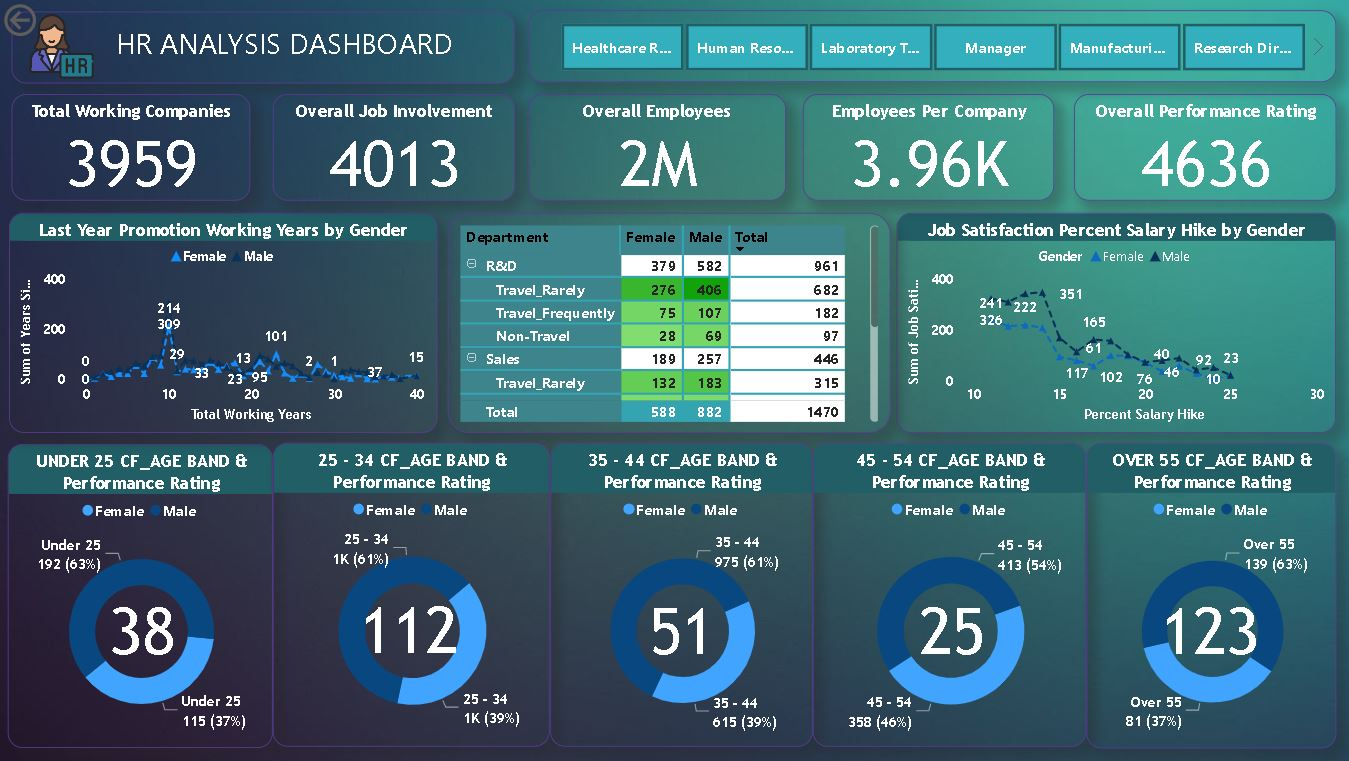

Layout of this report page (visuals, bound fields, positions):
{"tool":"powerbi","page":{"name":"Page 2","canvas":[1280,720],"ordinal":1},"visuals":[{"type":"donutChart","title":"UNDER 25 CF_AGE BAND & Performance Rating","fields":{"Category":["HR data.Gender"],"Y":["Sum(HR data.Performance Rating)"],"Series":["HR data.CF_age band"]},"box":[8.5,420.3,250.7,287.1],"z":0},{"type":"textbox","box":[12,12,475.4,67.7],"z":1000},{"type":"image","box":[12,9,94.8,70.7],"z":2000},{"type":"slicer","title":"Job Title","fields":{"Values":["HR data.Job Role"]},"box":[499.5,10.5,764.3,67.7],"z":3000},{"type":"lineChart","title":"Last Year Promotion Working Years by Gender","fields":{"Series":["HR data.Gender"],"Y":["Sum(HR data.Years Since Last Promotion)"],"Category":["HR data.Total Working Years"]},"box":[9,201.6,404.7,207.6],"z":4000},{"type":"lineChart","title":"Job Satisfaction Percent Salary Hike by Gender","fields":{"Series":["HR data.Gender"],"Category":["HR data.Percent Salary Hike"],"Y":["Sum(HR data.Job Satisfaction)"]},"box":[848.5,201.6,415.2,207.6],"z":5000},{"type":"card","title":"Total Working Companies","fields":{"Values":["Sum(HR data.Num Companies Worked)"]},"box":[12,90.3,225.7,100.8],"z":6000},{"type":"card","title":"Overall Job Involvement","fields":{"Values":["Sum(HR data.Job Involvement)"]},"box":[258.8,90.3,228.7,100.8],"z":7000},{"type":"card","title":"Overall Employees","fields":{"Values":["Sum(HR data.Employee Number)"]},"box":[499.5,90.3,243.7,100.8],"z":8000},{"type":"card","title":"Employees Per Company","fields":{"Values":["Sum(HR data.% Wise Employees Per Company)"]},"box":[759.8,90.3,237.7,100.8],"z":9000},{"type":"card","title":"Overall Performance Rating","fields":{"Values":["Sum(HR data.Performance Rating)"]},"box":[1015.5,90.3,248.2,100.8],"z":10000},{"type":"pivotTable","fields":{"Values":["Sum(HR data.Employee Count)"],"Columns":["HR data.Gender"],"Rows":["HR data.Department","HR data.Business Travel"]},"box":[424.3,201.6,418.2,207.6],"z":12000},{"type":"donutChart","title":"25 - 34 CF_AGE BAND & Performance Rating","fields":{"Category":["HR data.Gender"],"Y":["Sum(HR data.Performance Rating)"],"Series":["HR data.CF_age band"]},"box":[258.8,419.7,261.8,287.4],"z":12500},{"type":"donutChart","title":"35 - 44 CF_AGE BAND & Performance Rating","fields":{"Category":["HR data.Gender"],"Y":["Sum(HR data.Performance Rating)"],"Series":["HR data.CF_age band"]},"box":[520.5,419.7,248.2,287.4],"z":13000},{"type":"donutChart","title":"45 - 54 CF_AGE BAND & Performance Rating","fields":{"Category":["HR data.Gender"],"Y":["Sum(HR data.Performance Rating)"],"Series":["HR data.CF_age band"]},"box":[768.8,419.7,258.8,287.4],"z":14000},{"type":"donutChart","title":"OVER 55 CF_AGE BAND & Performance Rating","fields":{"Category":["HR data.Gender"],"Y":["Sum(HR data.Performance Rating)"],"Series":["HR data.CF_age band"]},"box":[1027.7,419.6,236.2,289],"z":15000},{"type":"card","title":"Attrition","fields":{"Values":["Sum(HR data.Attrition Count)"]},"box":[85.8,543.1,97.8,99.3],"z":16000},{"type":"card","title":"Attrition","fields":{"Values":["Sum(HR data.Attrition Count)"]},"box":[331.9,542.6,110.2,99.3],"z":17000},{"type":"card","title":"Attrition","fields":{"Values":["Sum(HR data.Attrition Count)"]},"box":[592.8,543.1,105.3,99.3],"z":18000},{"type":"card","title":"Attrition","fields":{"Values":["Sum(HR data.Attrition Count)"]},"box":[848.1,542.8,105.5,99.3],"z":19000},{"type":"card","title":"Attrition","fields":{"Values":["Sum(HR data.Attrition Count)"]},"box":[1093.1,542.8,103,99.3],"z":20000},{"type":"actionButton","box":[0,0,100,40],"z":21000}]}

Visuals, with their boxes in screenshot pixels (x1, y1, x2, y2), scaled from the page's 1280x720 canvas onto the 1349x761 screenshot:
"UNDER 25 CF_AGE BAND & Performance Rating" donutChart: region(9, 444, 273, 748)
textbox: region(13, 13, 514, 84)
image: region(13, 10, 113, 84)
"Job Title" slicer: region(526, 11, 1332, 83)
"Last Year Promotion Working Years by Gender" lineChart: region(9, 213, 436, 433)
"Job Satisfaction Percent Salary Hike by Gender" lineChart: region(894, 213, 1332, 433)
"Total Working Companies" card: region(13, 95, 251, 202)
"Overall Job Involvement" card: region(273, 95, 514, 202)
"Overall Employees" card: region(526, 95, 783, 202)
"Employees Per Company" card: region(801, 95, 1051, 202)
"Overall Performance Rating" card: region(1070, 95, 1332, 202)
pivotTable - Sum(HR data.Employee Count) x HR data.Gender: region(447, 213, 888, 433)
"25 - 34 CF_AGE BAND & Performance Rating" donutChart: region(273, 444, 549, 747)
"35 - 44 CF_AGE BAND & Performance Rating" donutChart: region(549, 444, 810, 747)
"45 - 54 CF_AGE BAND & Performance Rating" donutChart: region(810, 444, 1083, 747)
"OVER 55 CF_AGE BAND & Performance Rating" donutChart: region(1083, 443, 1332, 749)
"Attrition" card: region(90, 574, 193, 679)
"Attrition" card: region(350, 573, 466, 678)
"Attrition" card: region(625, 574, 736, 679)
"Attrition" card: region(894, 574, 1005, 679)
"Attrition" card: region(1152, 574, 1261, 679)
actionButton: region(0, 0, 105, 42)
